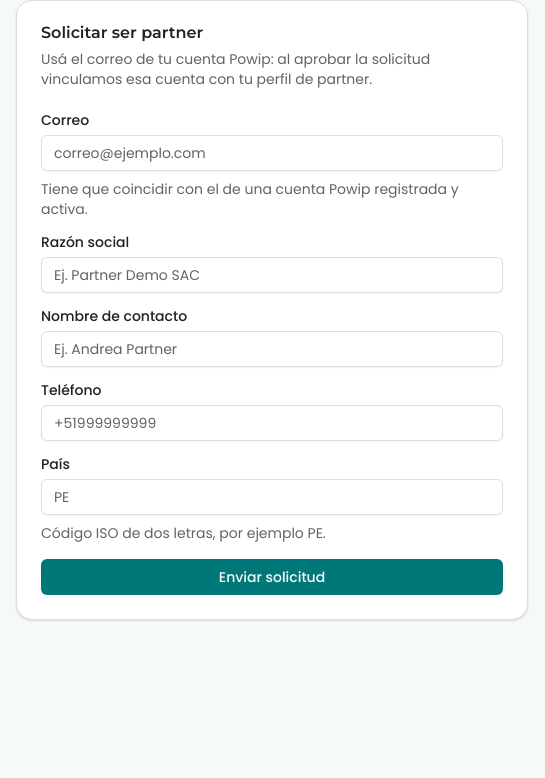
PartnerApplicationForm › rechaza un teléfono con caracteres que no son de un número
The image size is (545, 778).
Type "llamame" into the field labelled "Teléfono".
click(272, 423); type("llamame")  # box [41,405,503,441]
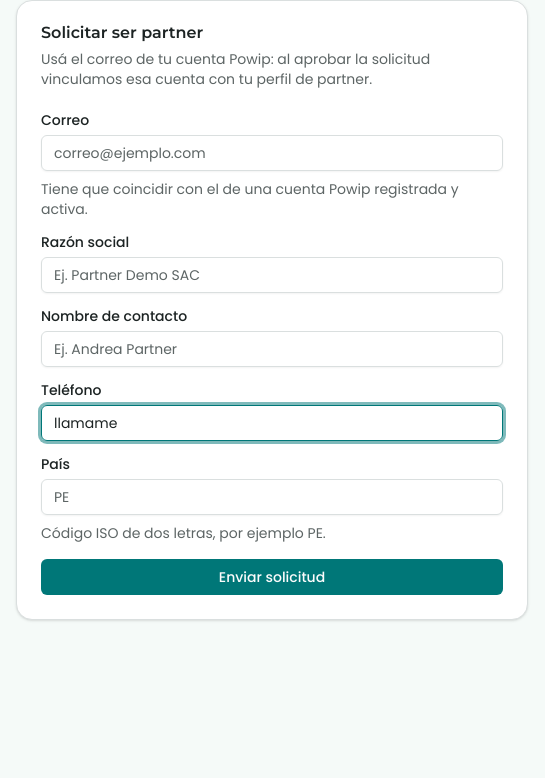
Click the button "Enviar solicitud".
click(272, 577)  # box [41,559,503,595]
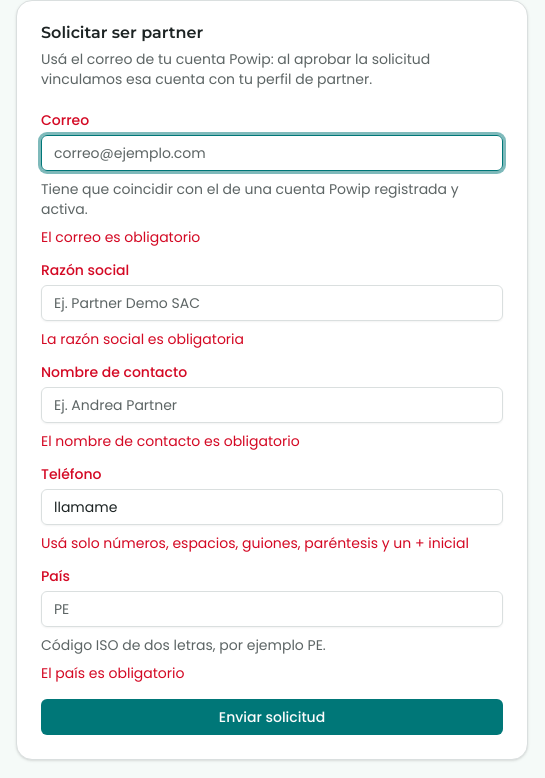
Result: the text "Usá solo números" is shown at [41,533,469,553]
